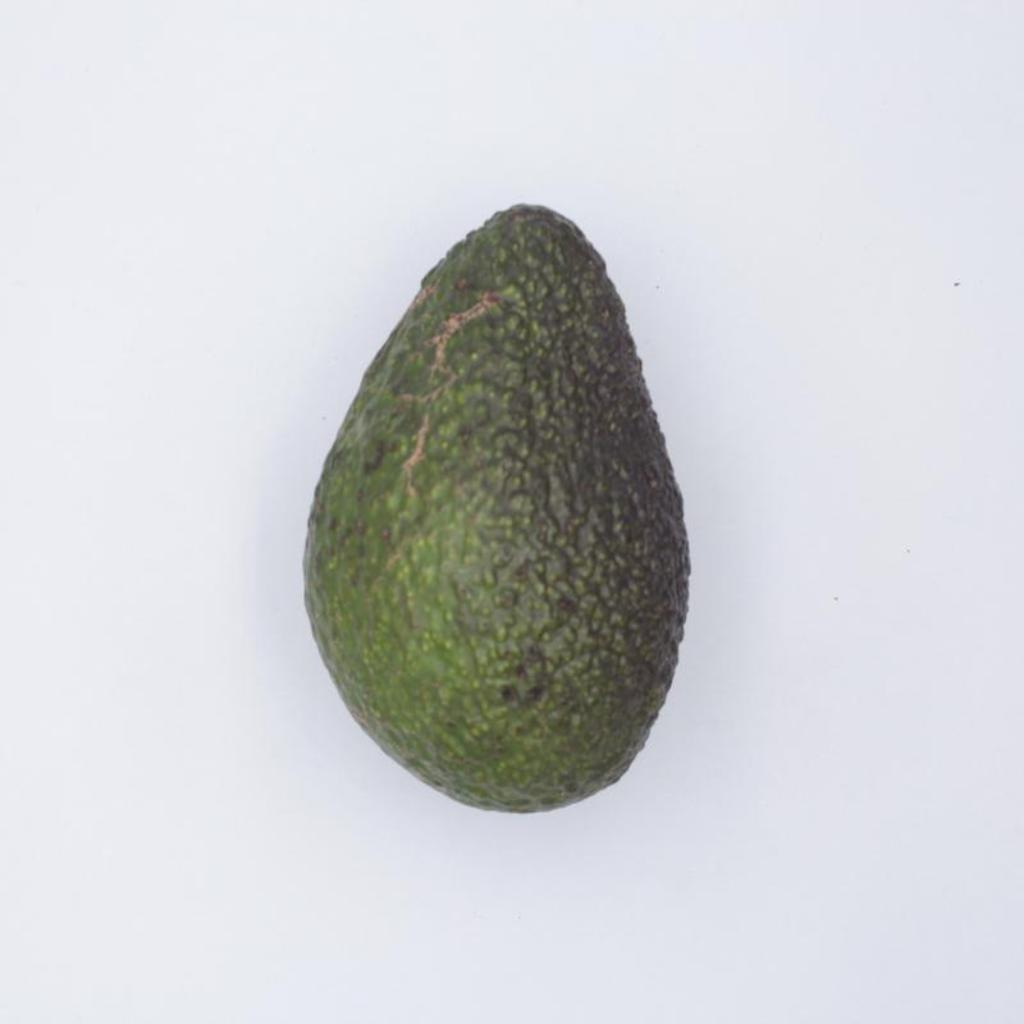scab: (305, 206, 687, 810)
